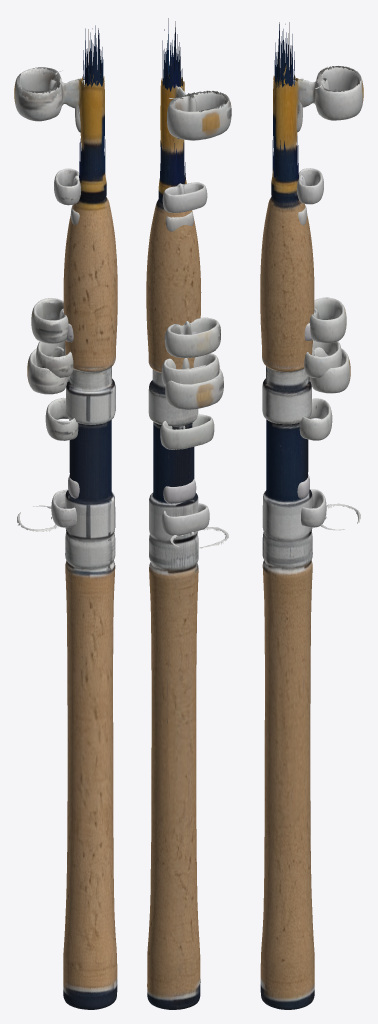
Rendered from float_borealis.glb.
3 renders of one model, left to right at view 1: azimuth 90°, elevation 25°; view 2: azimuth 210°, elevation 25°; view 3: azimuth 270°, elevation 25°, orthographic.
Visible parts, largest first — view 1: Handle, Seg0, Seg3, Seg6, Seg2, Seg4, Seg5, Seg1, Seg8; view 2: Handle, Seg0, Seg6, Seg3, Seg2, Seg4, Seg5, Seg8, Seg1; view 3: Handle, Seg0, Seg3, Seg6, Seg2, Seg4, Seg5, Seg1, Seg8.
Part boxes in pixels (left/top/right/bottom): Handle: left=63, top=138, right=117, bottom=1009; Seg0: left=14, top=67, right=104, bottom=180; Seg3: left=31, top=25, right=101, bottom=343; Seg6: left=51, top=28, right=97, bottom=527; Seg2: left=27, top=29, right=101, bottom=394; Seg4: left=36, top=35, right=100, bottom=377; Seg5: left=45, top=70, right=100, bottom=440; Seg1: left=17, top=28, right=103, bottom=531; Seg8: left=68, top=44, right=93, bottom=498; Handle: left=146, top=140, right=201, bottom=1009; Seg0: left=160, top=77, right=231, bottom=181; Seg6: left=161, top=53, right=209, bottom=535; Seg3: left=164, top=21, right=220, bottom=357; Seg2: left=163, top=47, right=223, bottom=409; Seg4: left=161, top=18, right=219, bottom=385; Seg5: left=160, top=77, right=214, bottom=449; Seg8: left=163, top=64, right=196, bottom=503; Seg1: left=162, top=40, right=228, bottom=548; Handle: left=260, top=136, right=314, bottom=1009; Seg0: left=273, top=66, right=363, bottom=178; Seg3: left=276, top=22, right=346, bottom=342; Seg6: left=280, top=24, right=326, bottom=527; Seg2: left=275, top=22, right=350, bottom=393; Seg4: left=277, top=29, right=341, bottom=377; Seg5: left=283, top=74, right=332, bottom=440; Seg1: left=274, top=34, right=360, bottom=530; Seg8: left=280, top=42, right=309, bottom=498.
Size of the model in its own units: 0.042 by 0.675 by 0.0642.
Materials: 1 (1 with a texture image).
